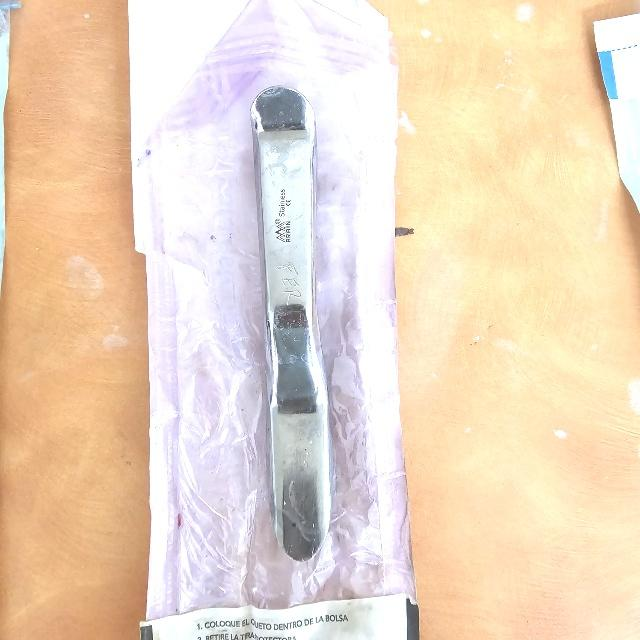separador: (252, 87, 331, 563)
